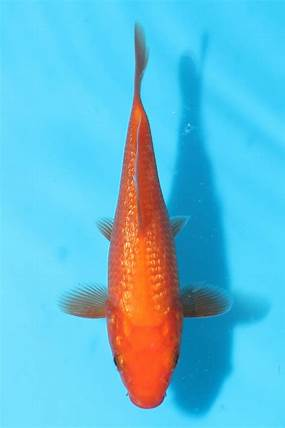red: (59, 21, 231, 408)
